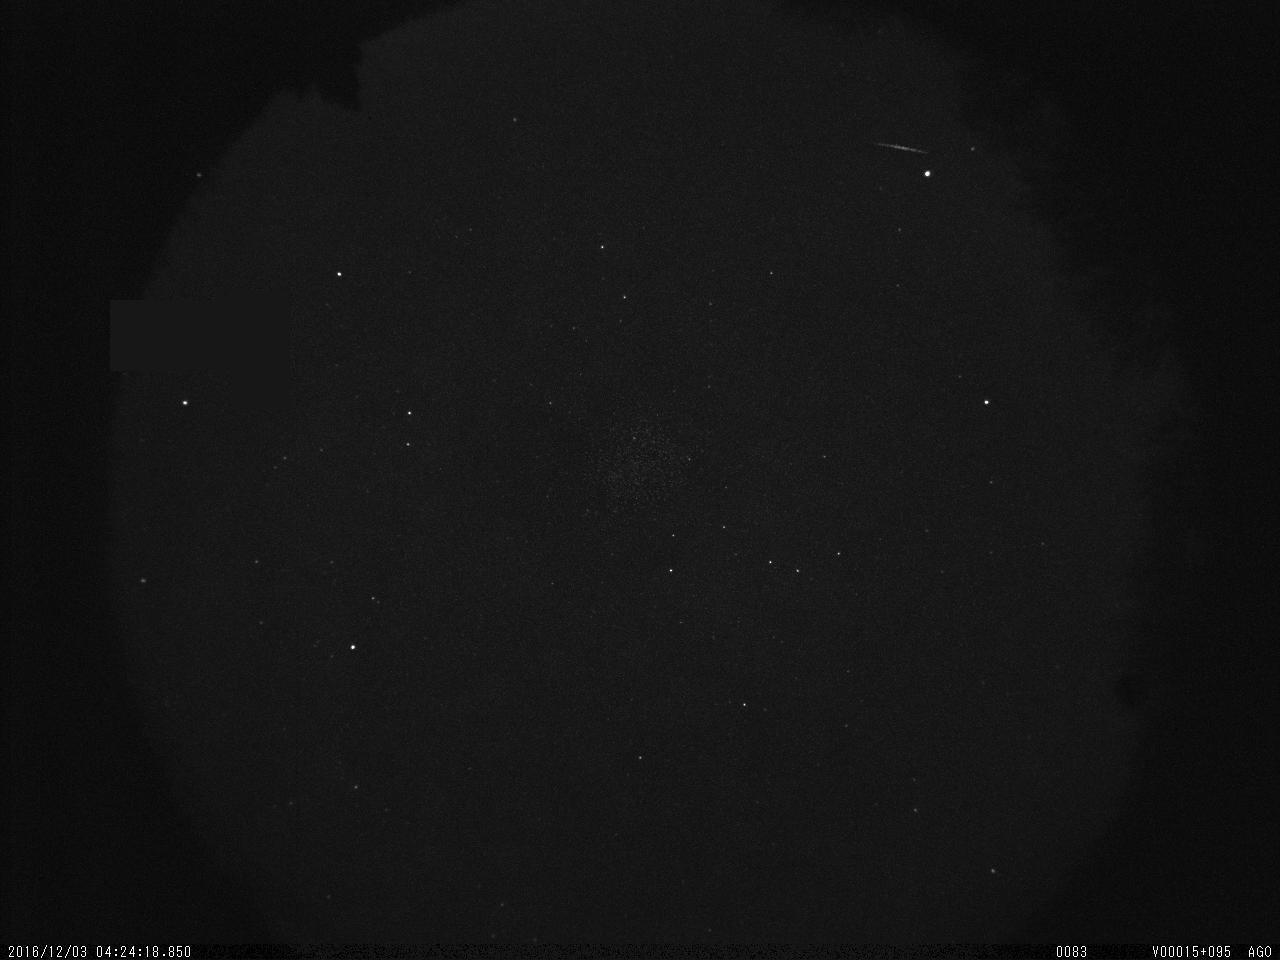Meteor: (869, 135, 934, 157)
